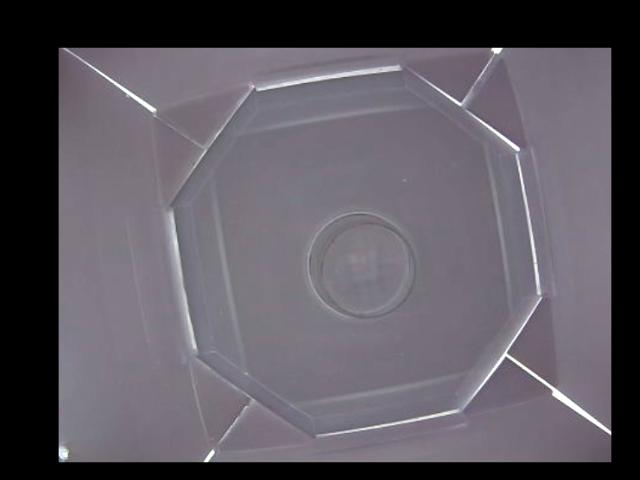Cup: (305, 209, 417, 320)
